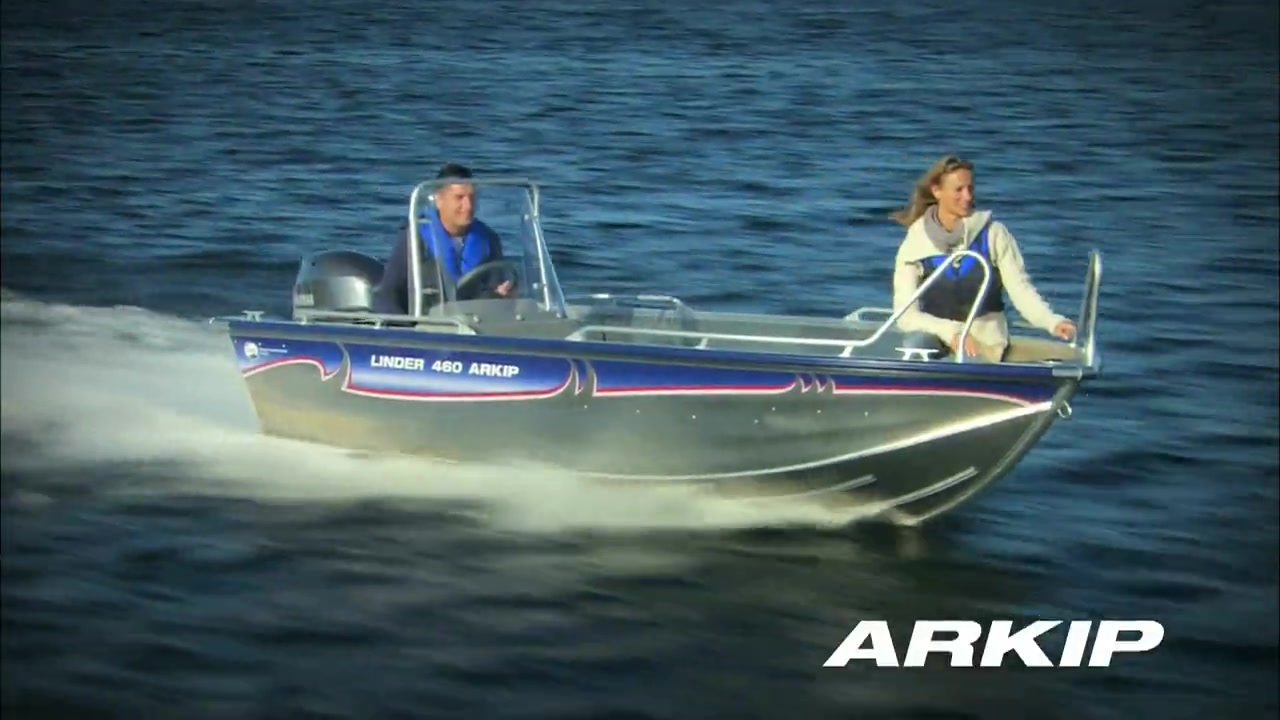boat: (214, 178, 1107, 549)
